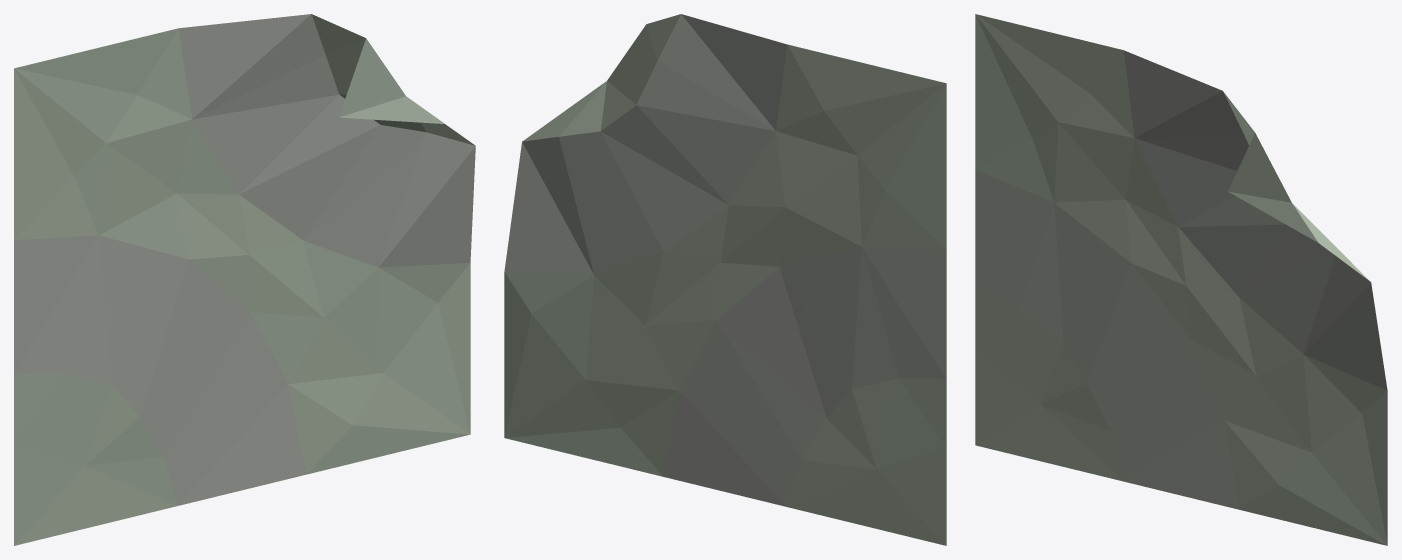
File: ColoredWallpapper_01.fbx
3 renders of one model, left to right at view 1: azimuth 30°, elevation 25°; view 2: azimuth 150°, elevation 25°; view 3: azimuth 330°, elevation 25°, orthographic. The views are drawn at different scales.
Visible parts, largest first — view 1: ColoredWallpapper_01; view 2: ColoredWallpapper_01; view 3: ColoredWallpapper_01.
Part boxes in pixels (bbox=[...]): ColoredWallpapper_01: bbox=[14, 14, 475, 545]; ColoredWallpapper_01: bbox=[504, 14, 946, 545]; ColoredWallpapper_01: bbox=[975, 14, 1387, 545].
Bounding box in the file's own units: 100 × 100 × 10.53.
1 material, 1 textured.
